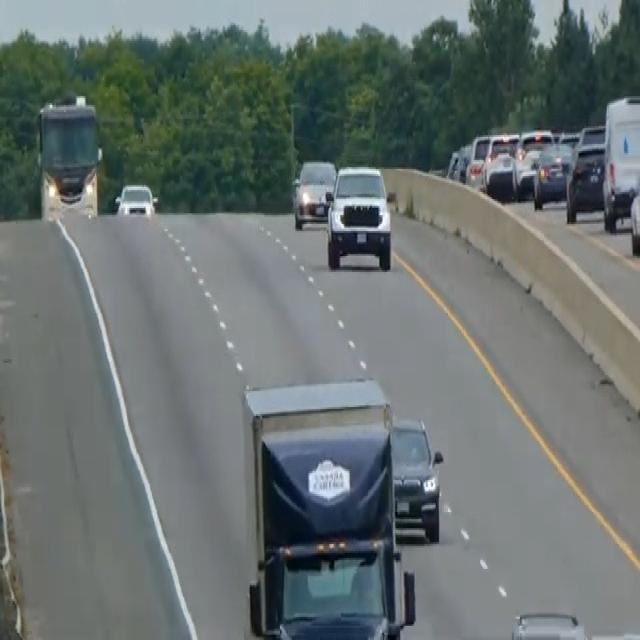bus: (35, 91, 103, 222)
car: (389, 414, 444, 542), (565, 122, 606, 220), (292, 156, 336, 230), (513, 126, 554, 199), (532, 140, 572, 210), (482, 132, 519, 199), (509, 608, 588, 638), (113, 180, 157, 220), (465, 132, 491, 186), (628, 162, 639, 256), (446, 141, 470, 183)
jeep: (323, 160, 394, 272)
lorry: (240, 374, 418, 636)
minibus: (601, 91, 639, 231)
